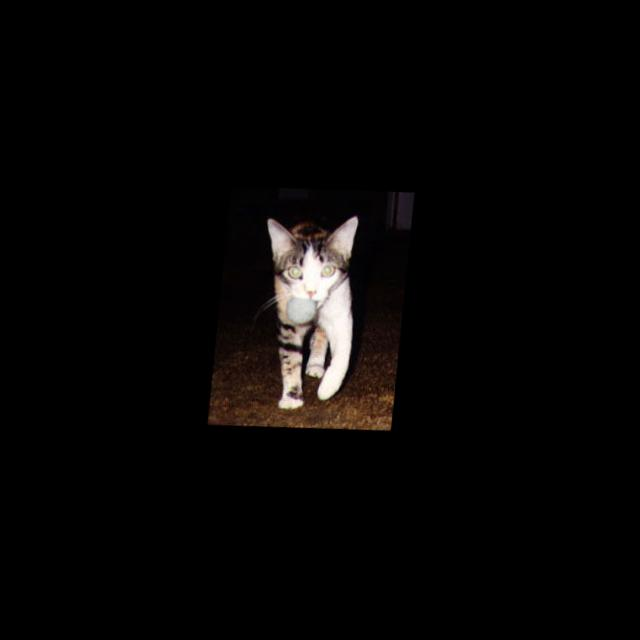animals: (262, 212, 356, 302)
